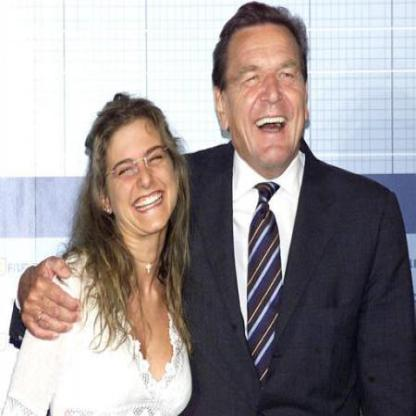face: (223, 10, 312, 170), (101, 100, 178, 238)
